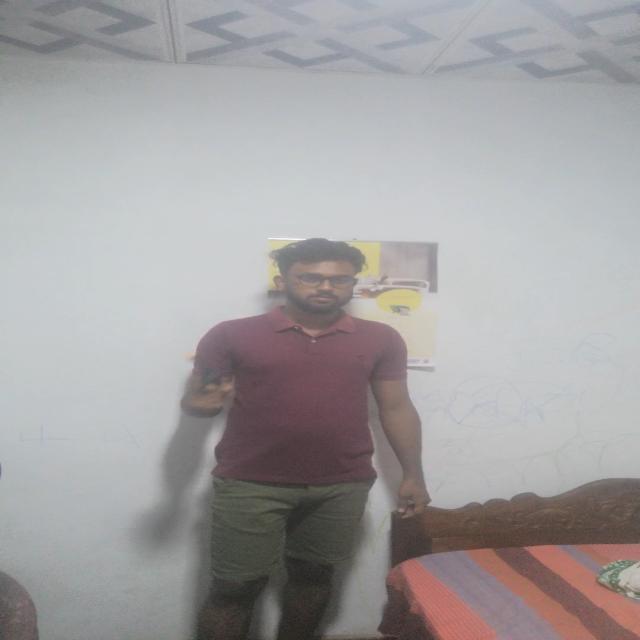Gun_Holder: (195, 355, 255, 412)
Person: (174, 242, 436, 640)
